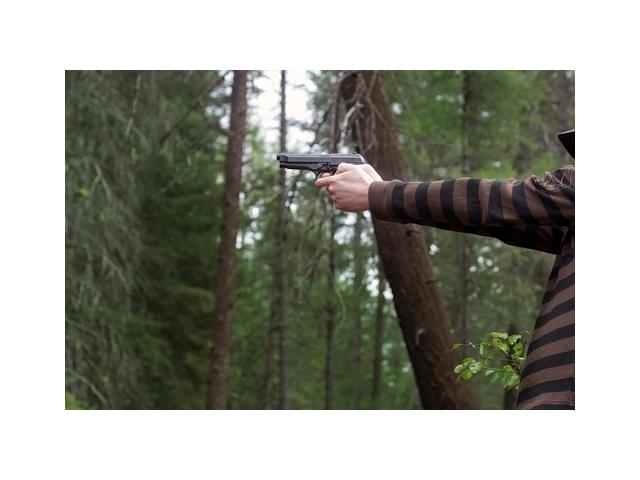pistol: (274, 148, 368, 210)
